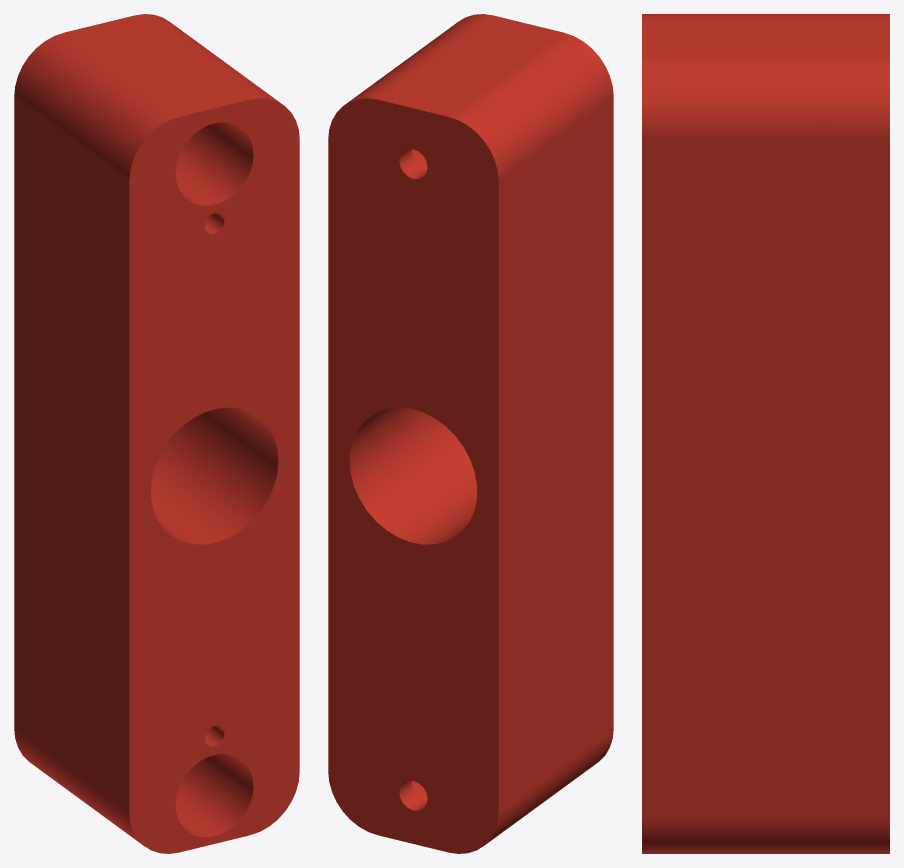
File: Leher Robot.obj
The picture shows the model from 3 angles, left to right: view 1: azimuth 30°, elevation 25°; view 2: azimuth 150°, elevation 25°; view 3: azimuth 270°, elevation 25°; orthographic projection. The views are drawn at different scales.
Parts seen in each view (by area): view 1: Solid1; view 2: Solid1; view 3: Solid1.
Boxes of the visible parts, x1,y1,x2,y2 form: Solid1: (14, 14, 299, 853); Solid1: (328, 14, 613, 853); Solid1: (642, 14, 889, 853).
Bounding box in the file's own units: 0.024 × 0.099 × 0.0281.
